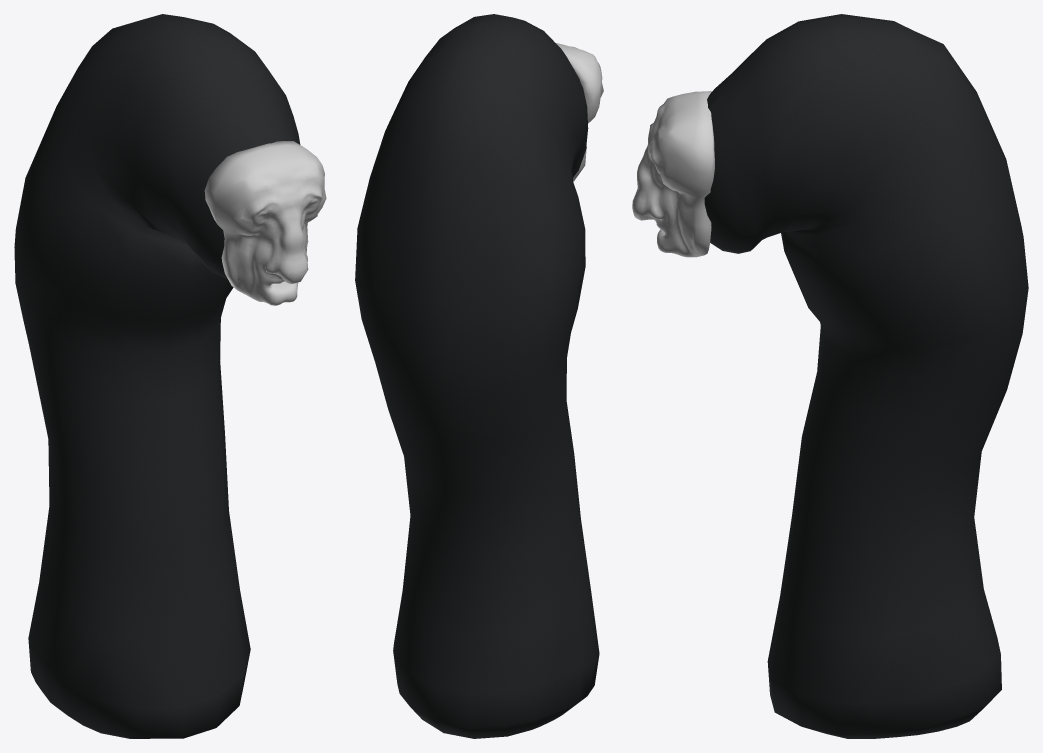
File: Entidad_F1.obj
The picture shows the model from 3 angles, left to right: view 1: azimuth 30°, elevation 25°; view 2: azimuth 150°, elevation 25°; view 3: azimuth 270°, elevation 25°; orthographic projection. The views are drawn at different scales.
Parts seen in each view (by area): view 1: Object_7, 0; view 2: Object_7, 0; view 3: Object_7, 0.
Boxes of the visible parts, bbox=[...] form: Object_7: bbox=[14, 14, 300, 738]; 0: bbox=[204, 141, 326, 305]; Object_7: bbox=[355, 14, 599, 738]; 0: bbox=[556, 43, 603, 181]; Object_7: bbox=[704, 14, 1028, 738]; 0: bbox=[632, 91, 714, 257].
Size of the model in its own units: 0.4792 by 1.5 by 0.7622.
